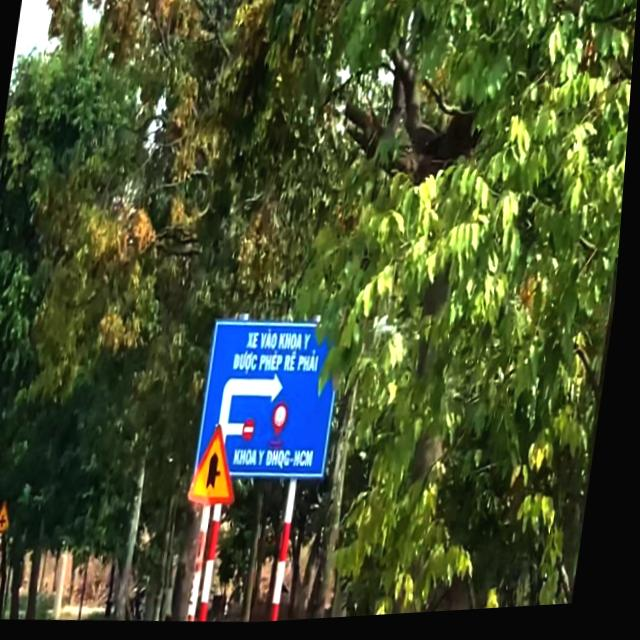Cam di nguoc chieu: (247, 421, 263, 444)
Giao nhau voi duong khong uu tien ben phai: (192, 423, 253, 511)
